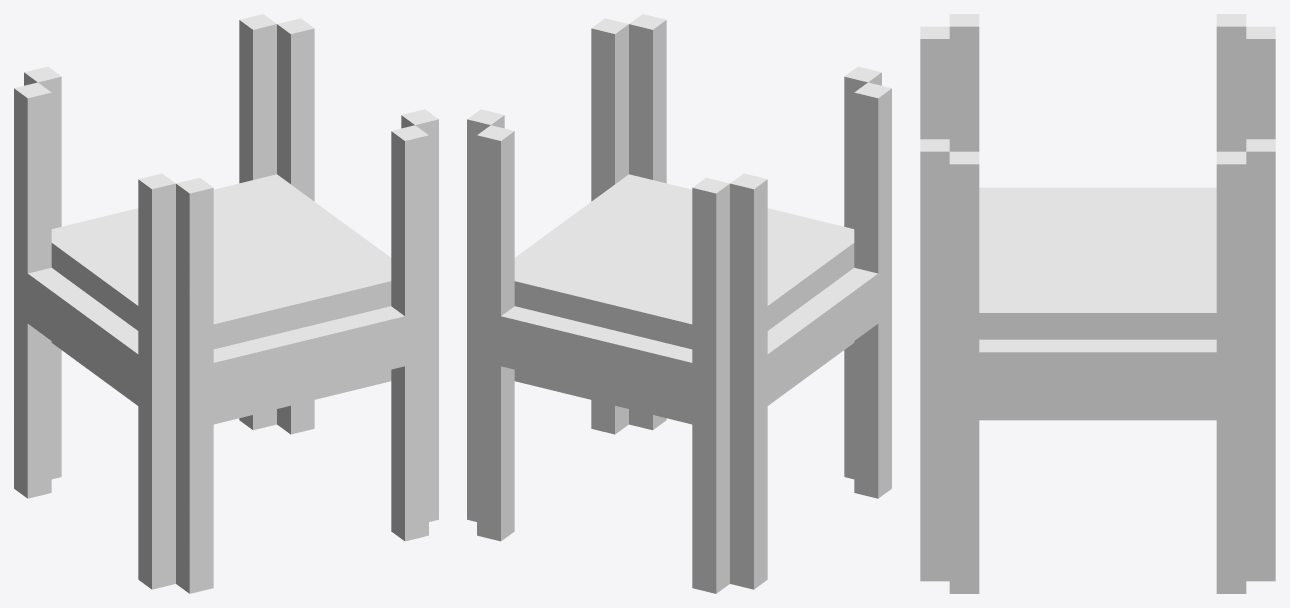
The model's file is laser_lens.obj.
3 renders of one model, left to right at view 1: azimuth 30°, elevation 25°; view 2: azimuth 150°, elevation 25°; view 3: azimuth 270°, elevation 25°, orthographic. The views are drawn at different scales.
Parts seen in each view (by area): view 1: glass_colored, lens_colored_side_2, lens_colored_side; view 2: glass_colored, lens_colored_side_2, lens_colored_side; view 3: glass_colored, lens_colored_side_2, lens_colored_side.
Part boxes in pixels (box(x1,y1,x2,y2)): glass_colored: box(14, 14, 438, 593); lens_colored_side_2: box(51, 174, 391, 424); lens_colored_side: box(27, 267, 404, 412); glass_colored: box(467, 14, 891, 593); lens_colored_side_2: box(514, 174, 854, 424); lens_colored_side: box(501, 267, 878, 412); glass_colored: box(920, 14, 1275, 593); lens_colored_side_2: box(979, 187, 1216, 420); lens_colored_side: box(979, 339, 1216, 405).
Bounding box in the file's own units: 0.75 × 1 × 0.75.
